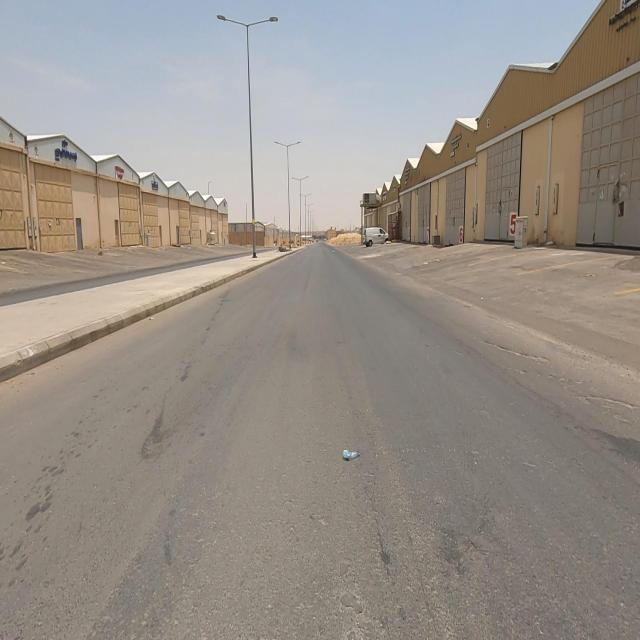debris: (314, 410, 388, 500)
